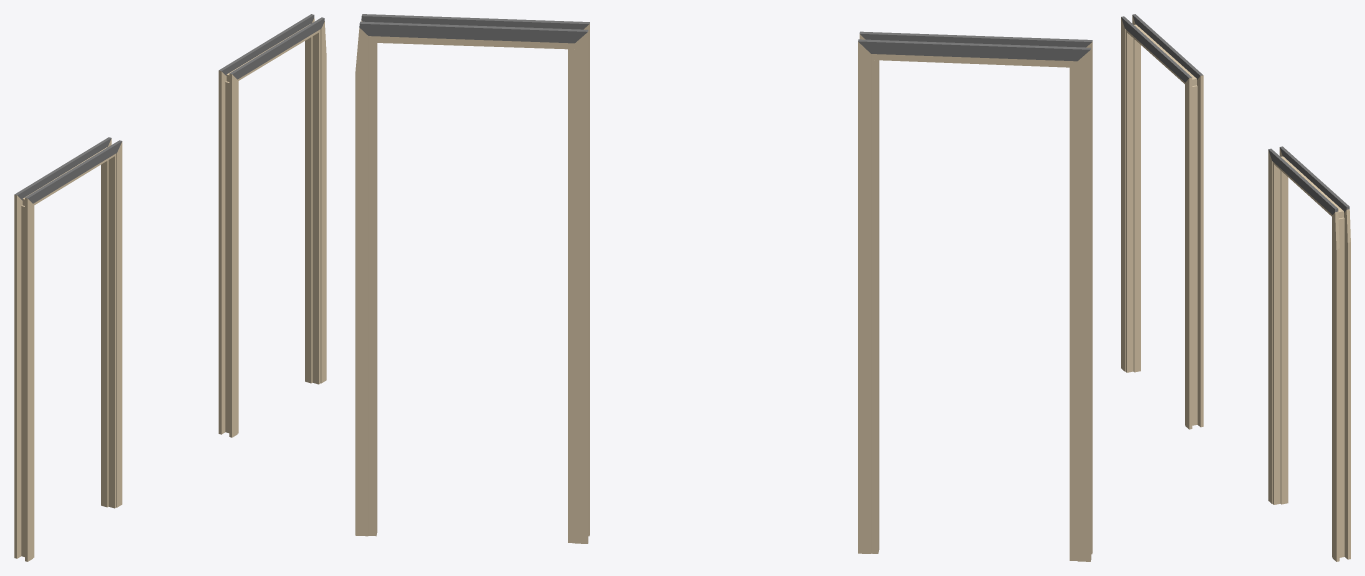
File: Türrahmen.fbx
3 renders of one model, left to right at view 1: azimuth 30°, elevation 25°; view 2: azimuth 150°, elevation 25°; view 3: azimuth 270°, elevation 25°, orthographic. The views are drawn at different scales.
Visible parts, largest first — view 1: Holz, innen; view 2: Holz, innen; view 3: Holz, innen.
Boxes of the visible parts, x1=… form: Holz, innen: x1=14, y1=14, x2=326, y2=561; Holz, innen: x1=355, y1=14, x2=1092, y2=561; Holz, innen: x1=1121, y1=14, x2=1350, y2=561.
Bounding box in the file's own units: 2.56 × 2.14 × 1.27.
